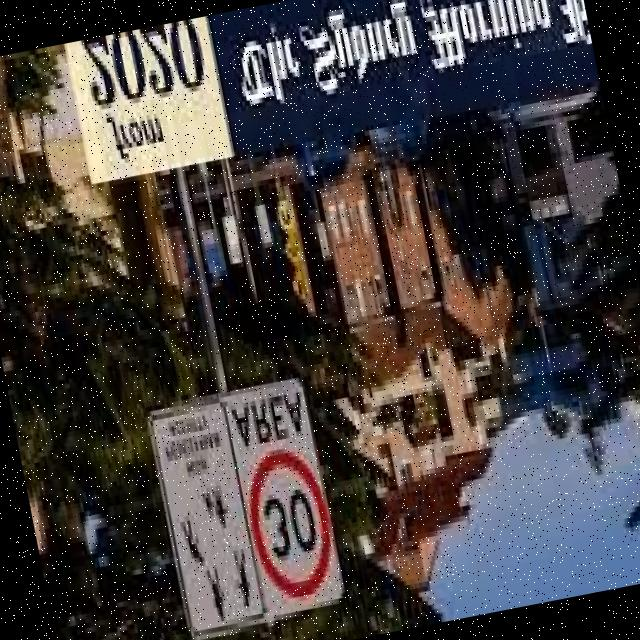speed_limit_30: (237, 445, 346, 604)
